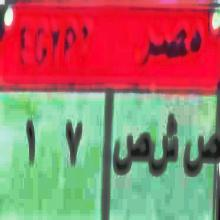1: (22, 112, 44, 168)
7: (61, 118, 86, 172)
saad: (113, 120, 151, 180), (183, 126, 220, 183)
sheen: (151, 110, 181, 182)
